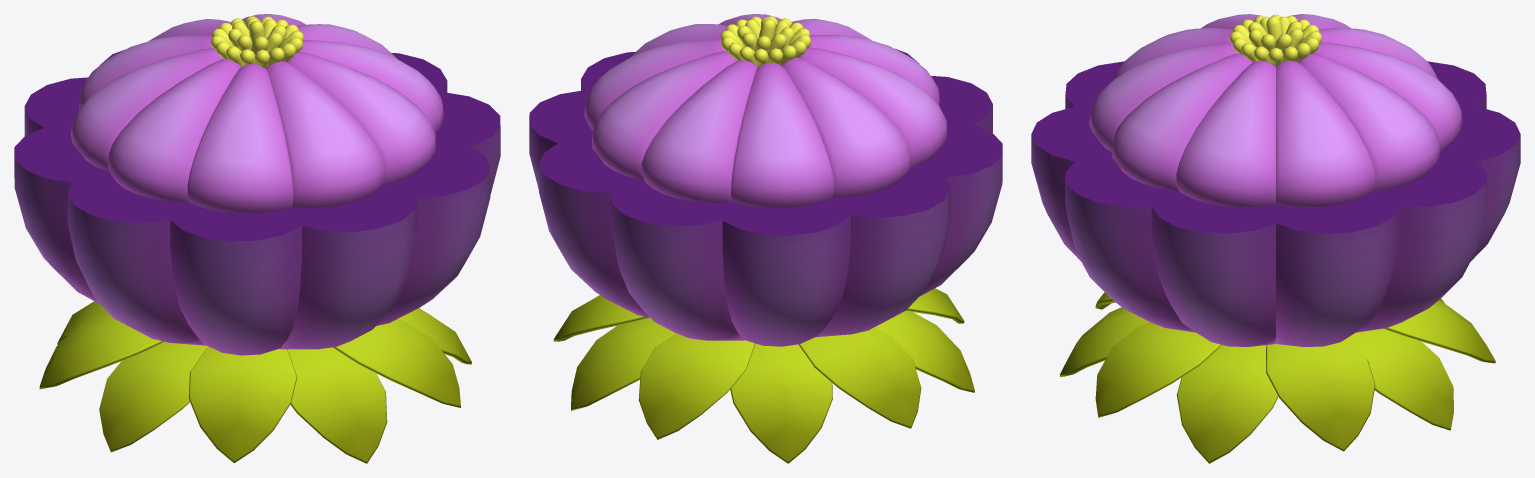
Rendered from fruitBush.fbx.
The picture shows the model from 3 angles, left to right: view 1: azimuth 30°, elevation 25°; view 2: azimuth 150°, elevation 25°; view 3: azimuth 270°, elevation 25°; orthographic projection. The views are drawn at different scales.
Parts seen in each view (by area): view 1: fruitA3; view 2: fruitA3; view 3: fruitA3.
Boxes of the visible parts, left/top/right/bottom form: fruitA3: left=14, top=14, right=500, bottom=463; fruitA3: left=529, top=14, right=1002, bottom=463; fruitA3: left=1031, top=14, right=1520, bottom=463.
Size of the model in its own units: 18.5 by 15.52 by 19.18.
Materials: 1 (1 with a texture image).
